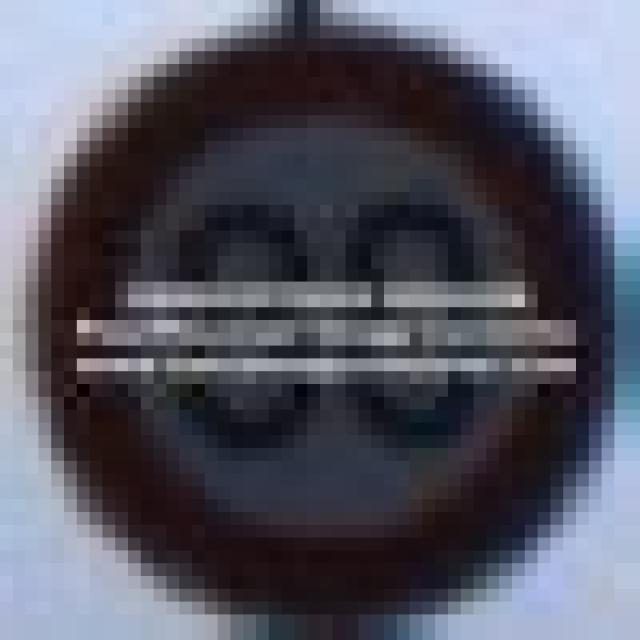speed_limit_50: (38, 26, 614, 576)
